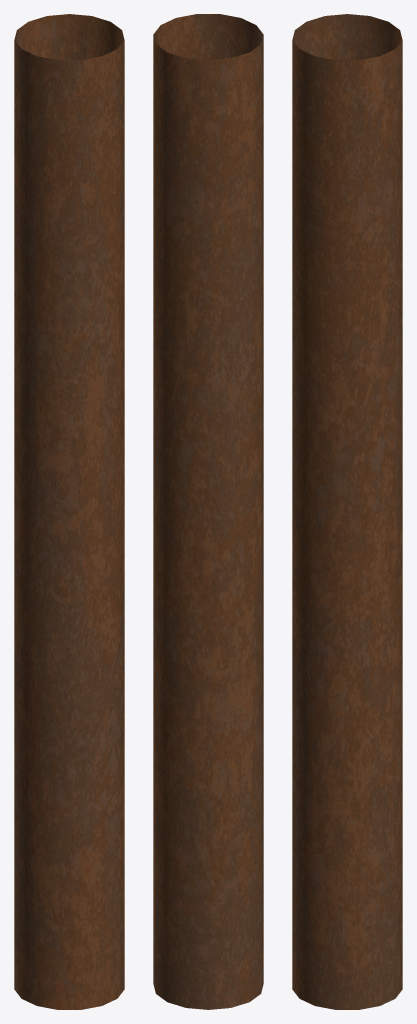
File: Pipe_02.fbx
The picture shows the model from 3 angles, left to right: view 1: azimuth 30°, elevation 25°; view 2: azimuth 210°, elevation 25°; view 3: azimuth 270°, elevation 25°; orthographic projection.
Visible parts, largest first — view 1: Pipe_02; view 2: Pipe_02; view 3: Pipe_02.
Boxes of the visible parts, <box> form: Pipe_02: <box>14,14,124,1009</box>; Pipe_02: <box>153,14,263,1009</box>; Pipe_02: <box>292,14,402,1009</box>.
Bounding box in the file's own units: 20.89 × 200 × 21.
